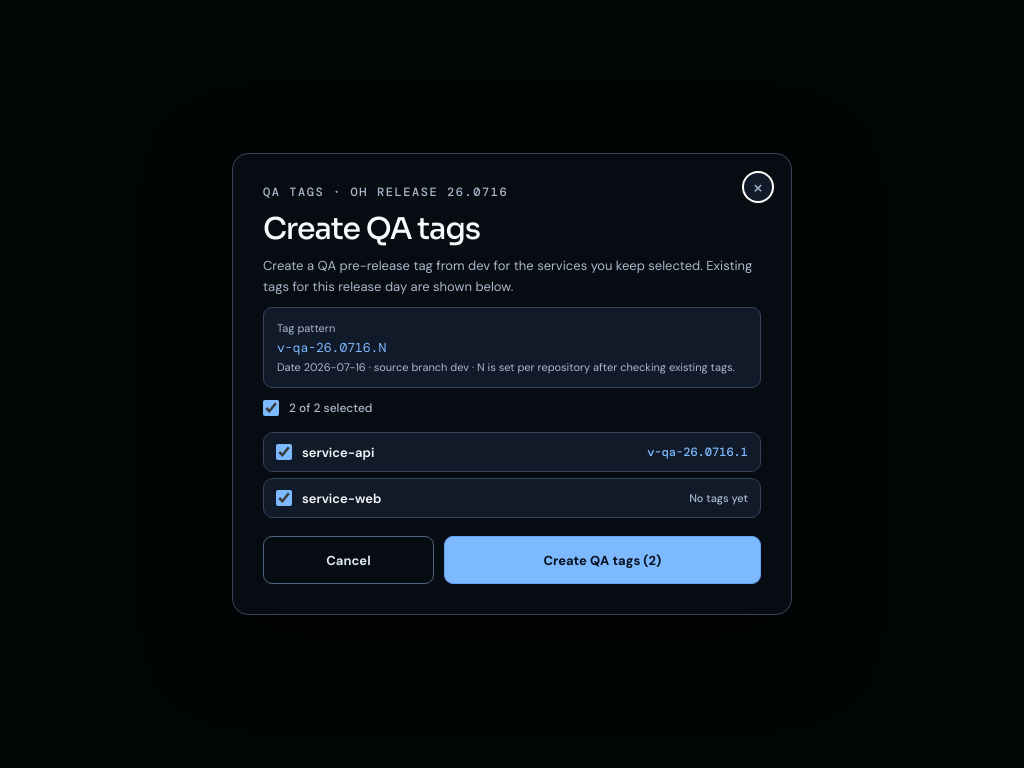
it: BulkQaReleaseDialog › skips deselected services instead of creating tags for every service
Check: the link "v-qa-26.0716.1" is shown, box [647,444,748,460]
Click the checkbox named "Include service-api". click: (284, 452)
box: [276,444,292,460]
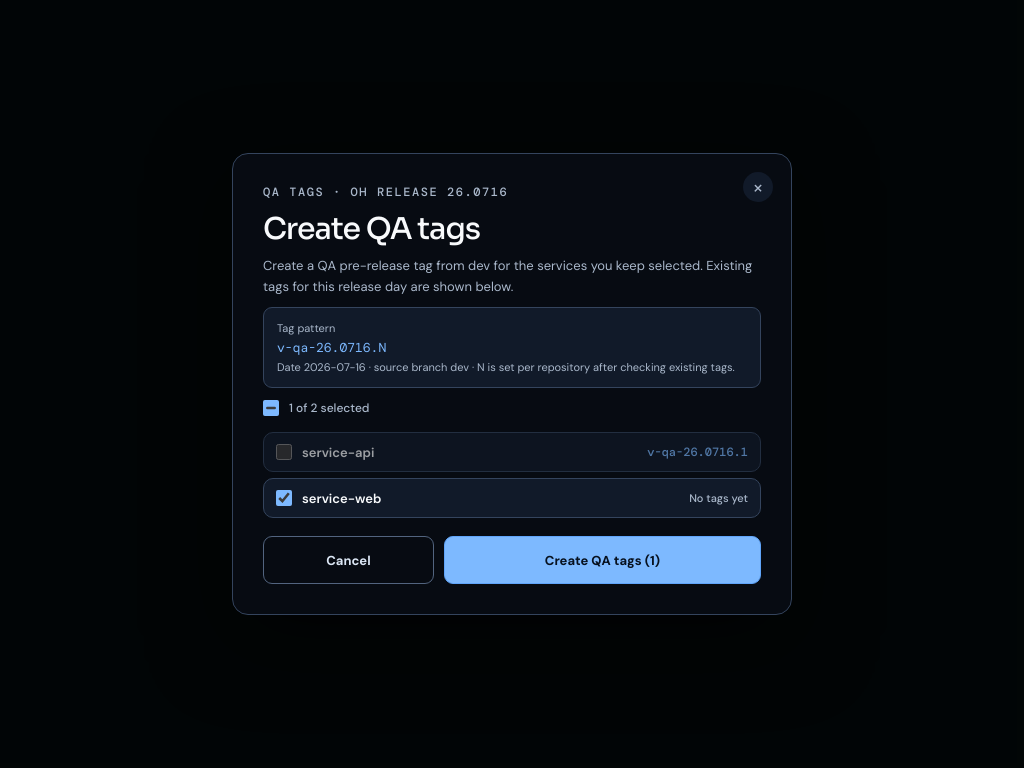
Check: the text "1 of 2 selected" is shown, box [263,400,370,416]
Click the button "Create QA tags (1)". click: (602, 560)
box: [444,536,761,584]
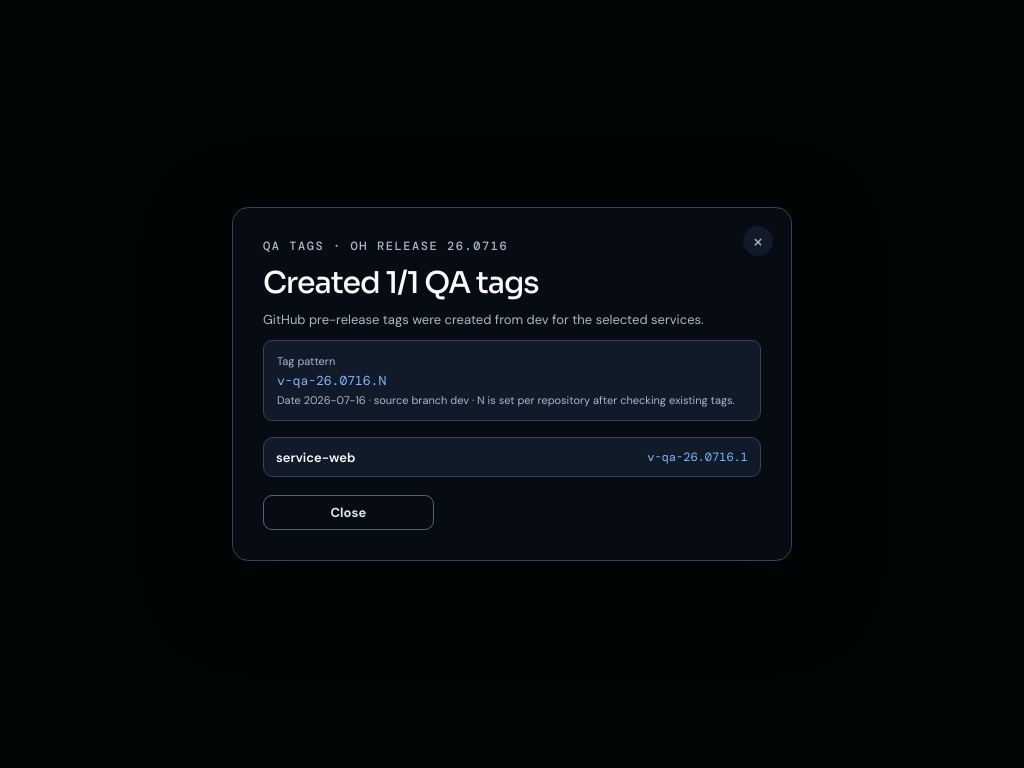
Check: the heading "Created 1/1 QA tags" is shown, box [263,264,539,302]
